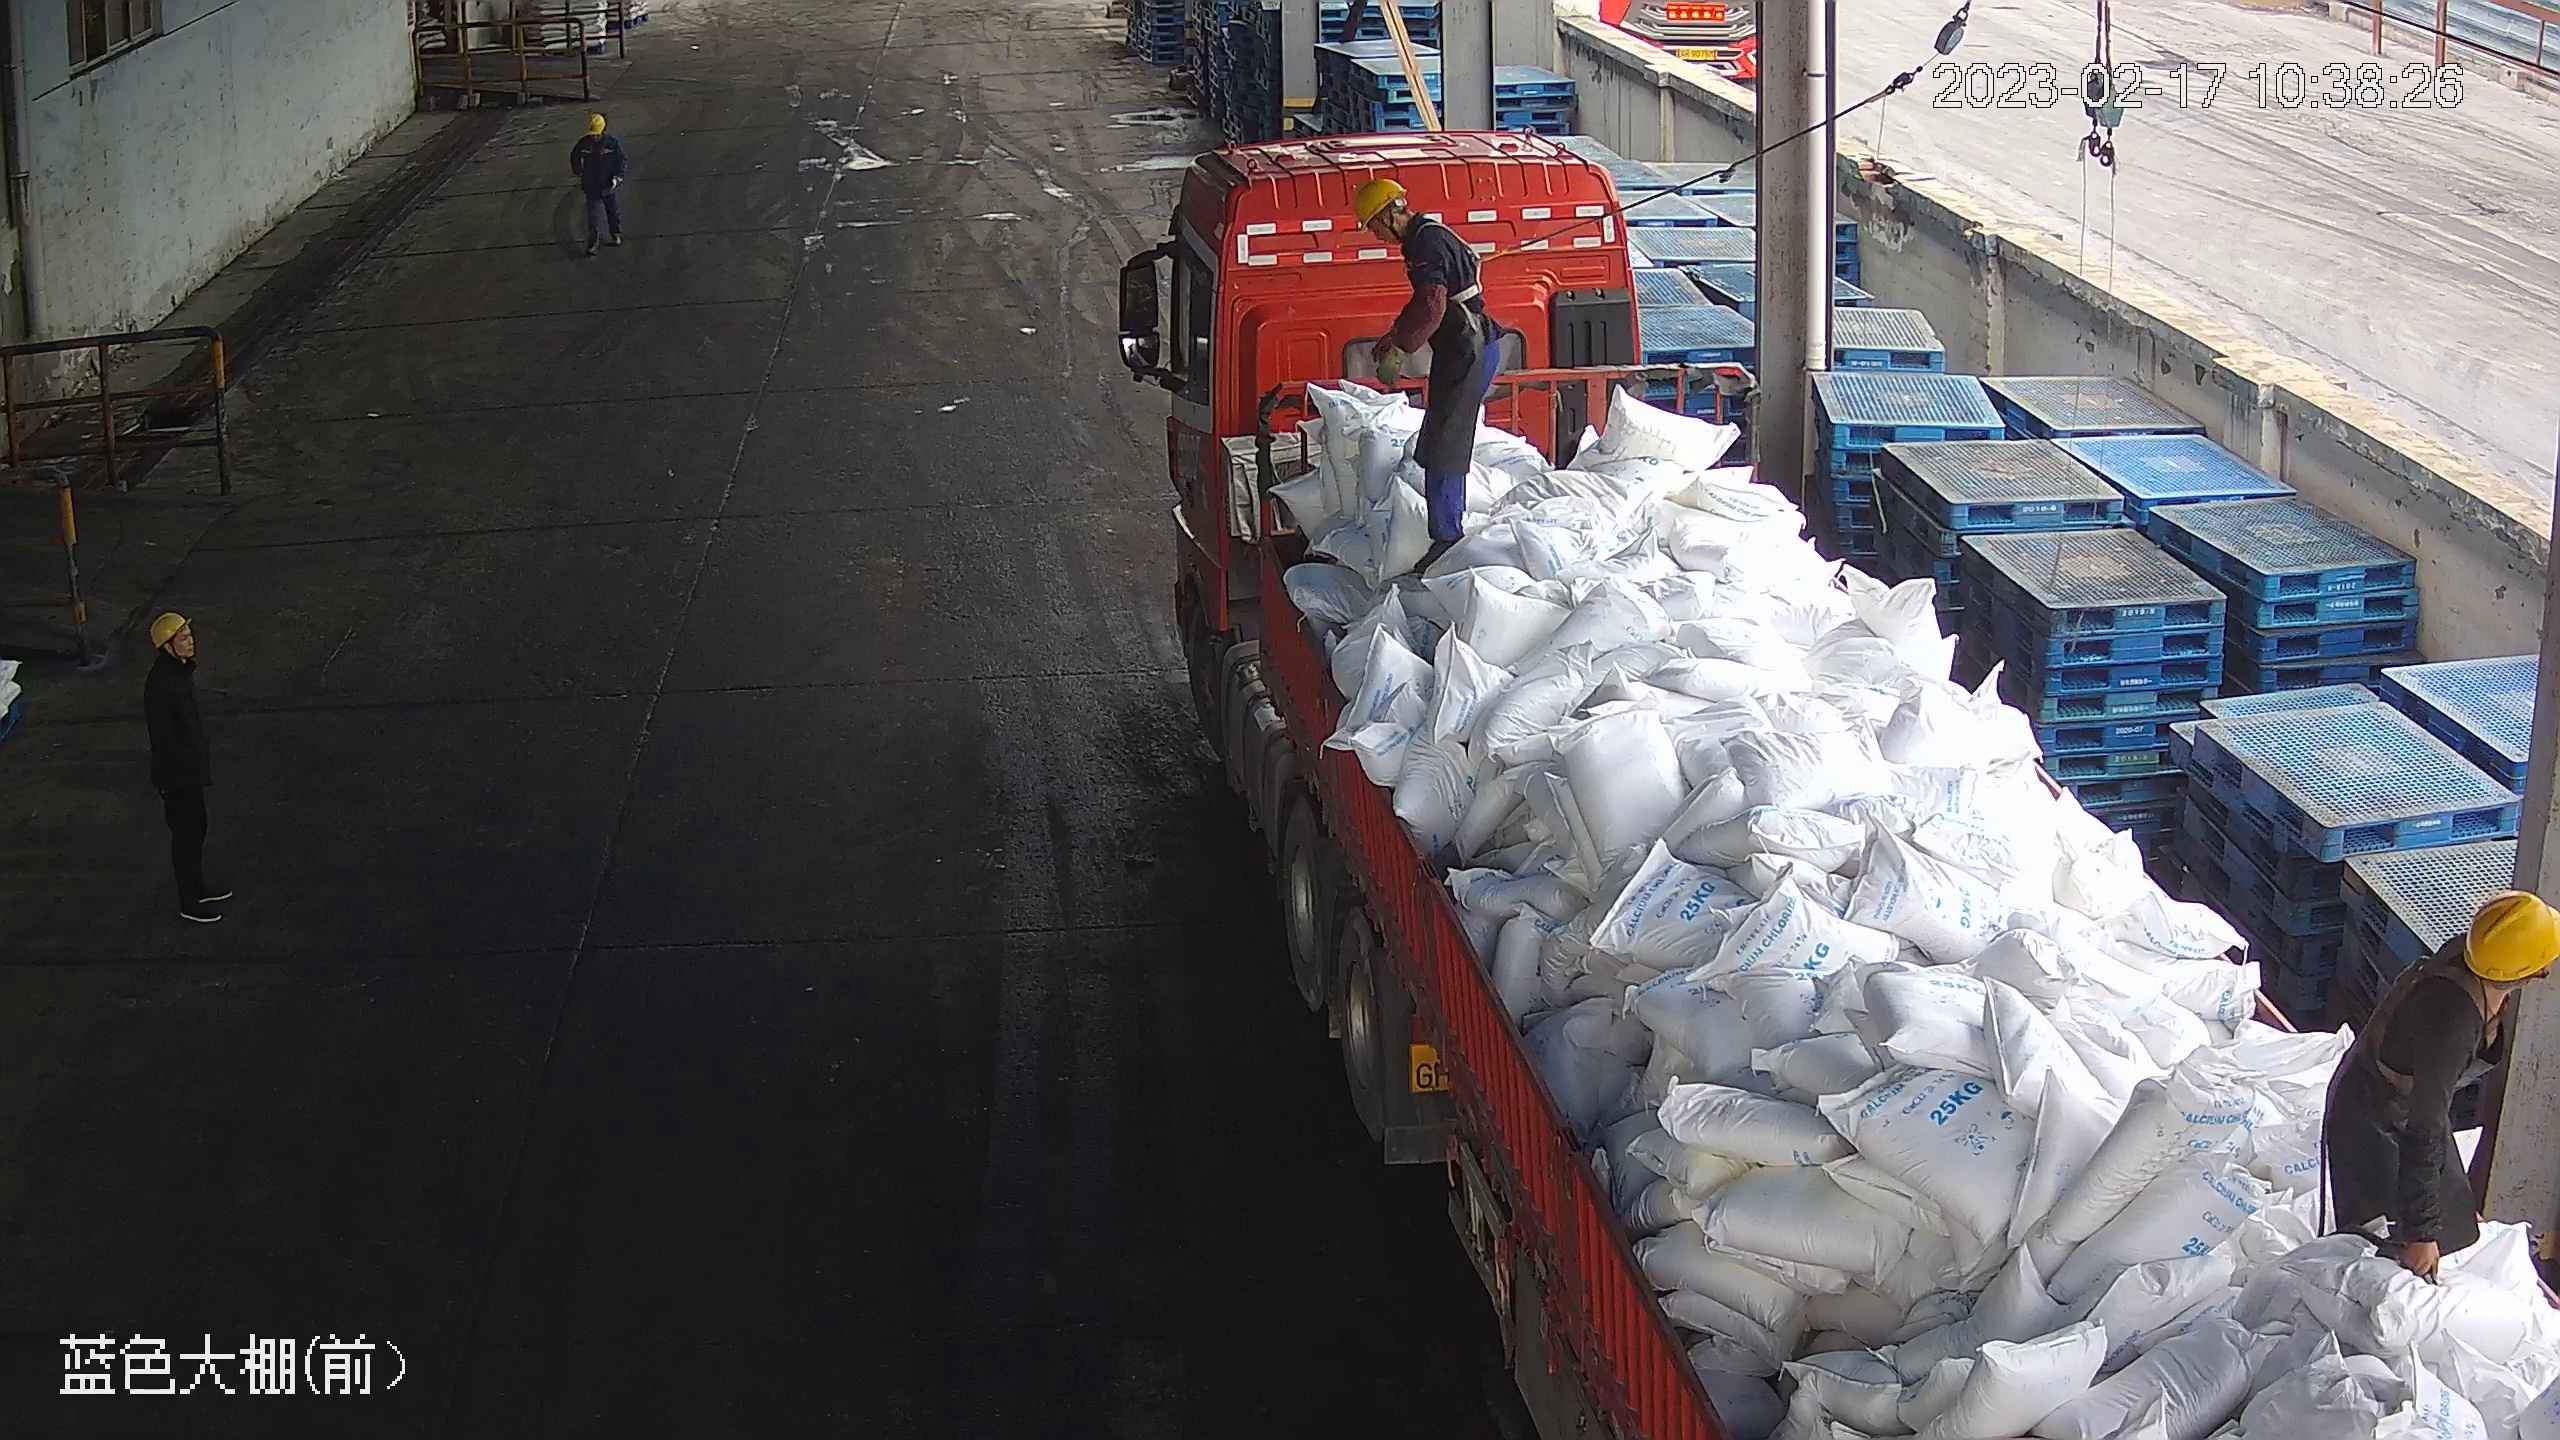belt: (2367, 959, 2506, 1087), (1403, 214, 1495, 300)
head: (2390, 889, 2560, 1053), (1352, 177, 1464, 273), (140, 612, 205, 700), (571, 112, 623, 161)
helmet: (2455, 889, 2560, 983), (1353, 176, 1406, 226), (147, 611, 190, 650), (586, 112, 609, 130)
people: (2319, 890, 2560, 1297), (1352, 175, 1500, 573), (139, 611, 232, 928), (570, 111, 627, 254)
truck: (1126, 150, 2556, 1440)
